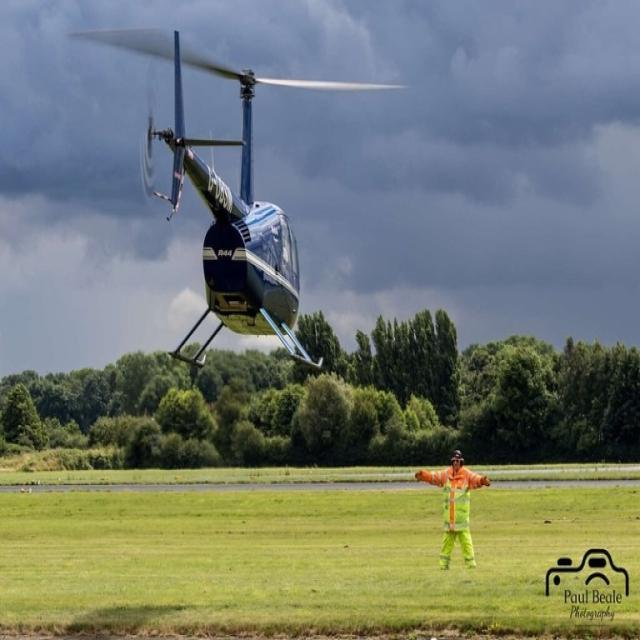CIV_HELO: (139, 29, 327, 375)
